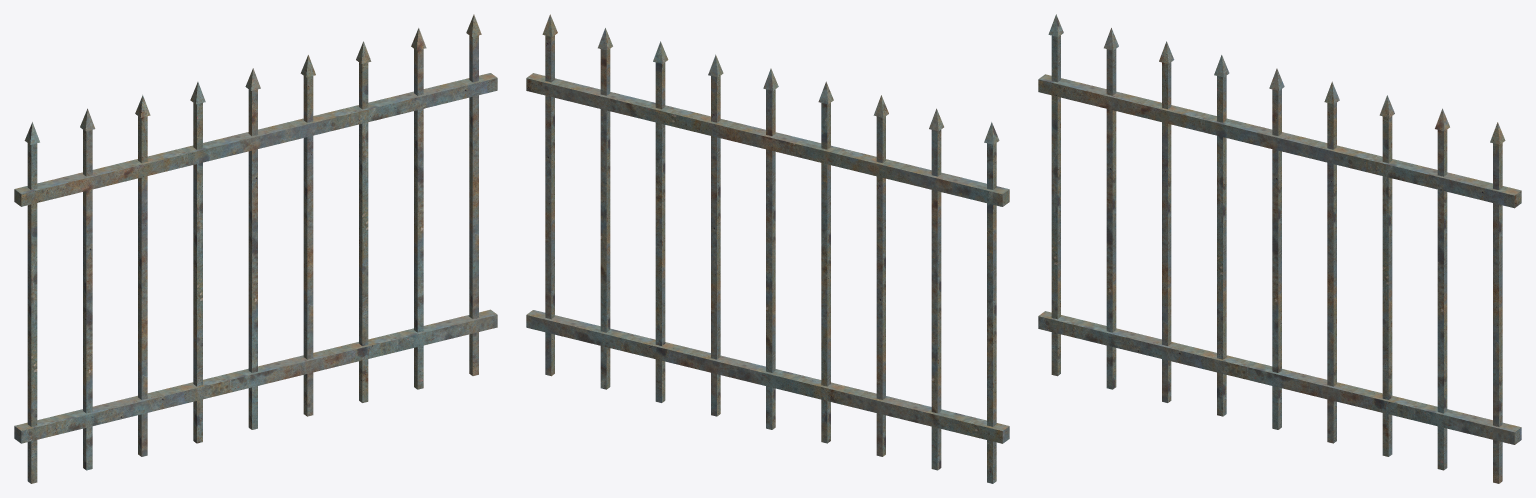
Rendered from fence21.FBX.
The picture shows the model from 3 angles, left to right: view 1: azimuth 30°, elevation 25°; view 2: azimuth 150°, elevation 25°; view 3: azimuth 330°, elevation 25°; orthographic projection.
Parts seen in each view (by area): view 1: metal_fence_small_spear_top; view 2: metal_fence_small_spear_top; view 3: metal_fence_small_spear_top.
Boxes of the visible parts, x1=… form: metal_fence_small_spear_top: x1=14, y1=14, x2=497, y2=483; metal_fence_small_spear_top: x1=526, y1=14, x2=1009, y2=483; metal_fence_small_spear_top: x1=1038, y1=14, x2=1521, y2=483.
Size of the model in its own units: 247 by 178 by 6.3.
